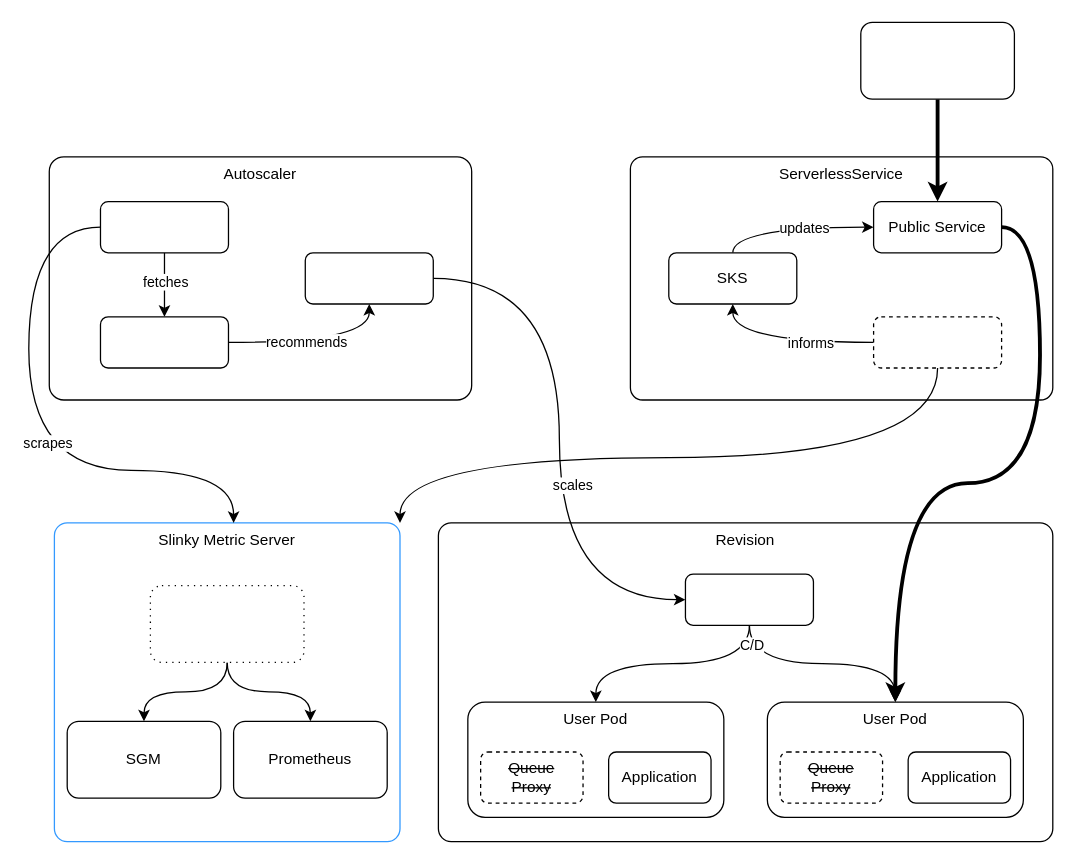
The diagram is 1075 pixels wide and 864 high, and some of its shapes have lost their labels. Each missing label, with the centre of its shape:
8080 /metrics: the point at 226,623
Decider: the point at 163,342
Deployment: the point at 748,599
Ingress: the point at 937,60
Metric: the point at 163,226
PA: the point at 368,278
Private Service: the point at 937,342
